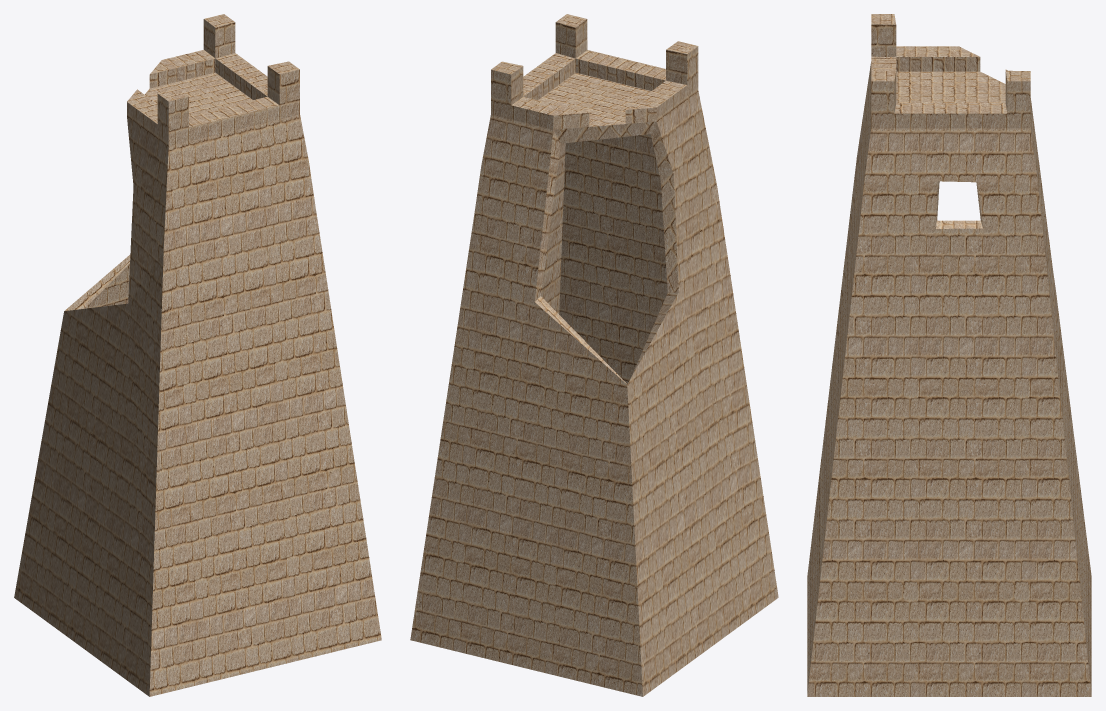
File: desert_tower.obj
3 renders of one model, left to right at view 1: azimuth 30°, elevation 25°; view 2: azimuth 150°, elevation 25°; view 3: azimuth 270°, elevation 25°, orthographic. The views are drawn at different scales.
Parts seen in each view (by area): view 1: Cube; view 2: Cube; view 3: Cube.
Boxes of the visible parts, x1,y1,x2,y2 form: Cube: [14, 14, 381, 696]; Cube: [410, 14, 778, 696]; Cube: [807, 14, 1091, 696].
Bounding box in the file's own units: 7.57 × 17.48 × 7.65.
1 material, 1 textured.
